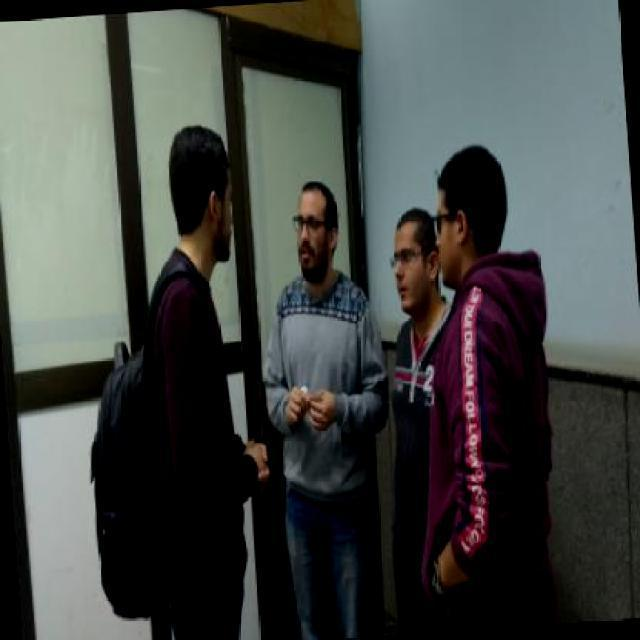non-fight: (380, 131, 566, 634), (110, 111, 282, 638), (252, 176, 406, 638)
